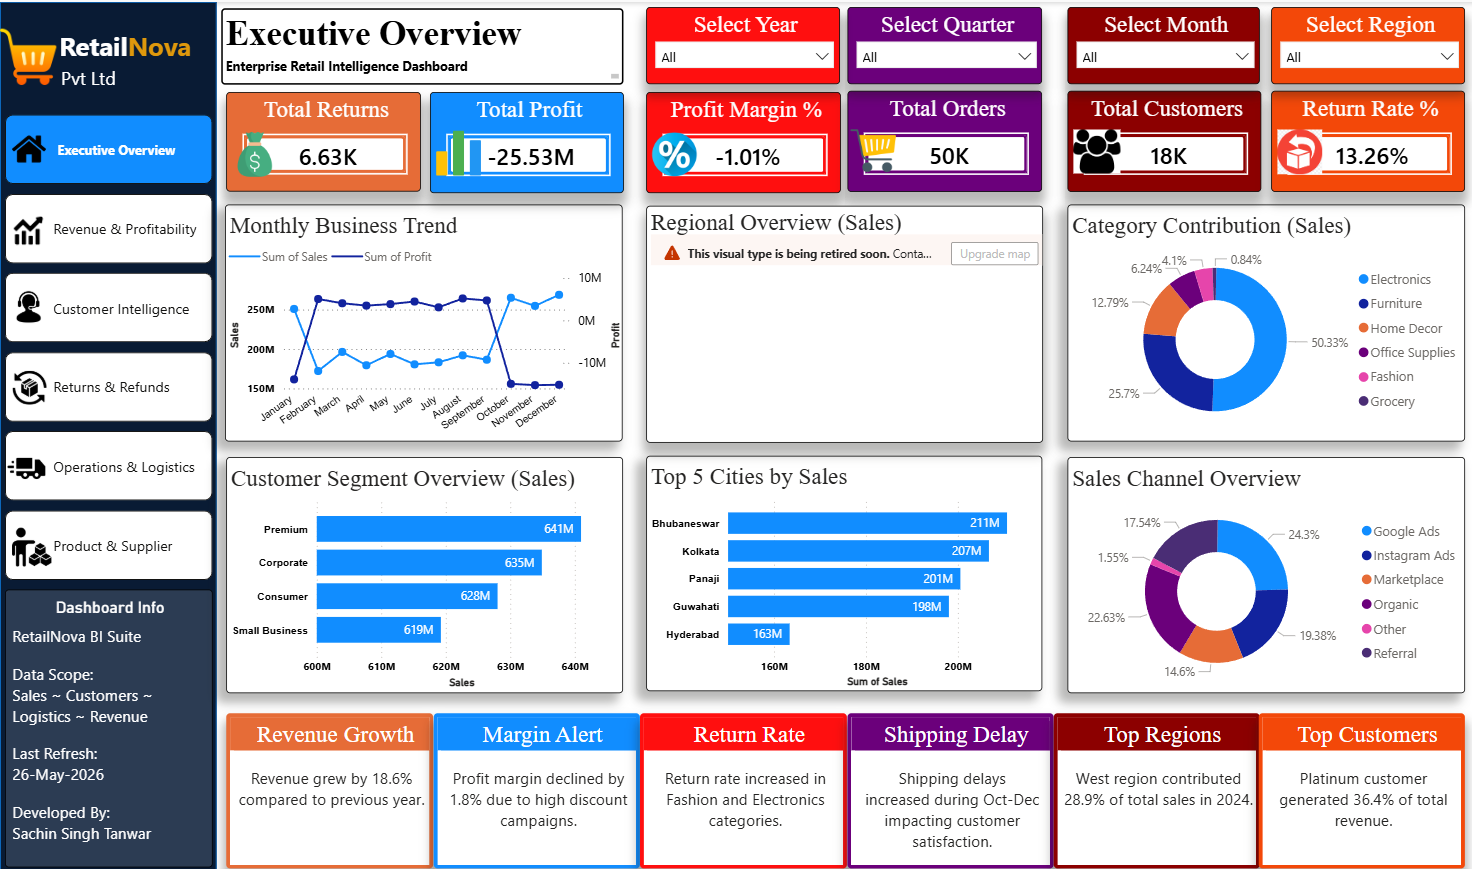

This screenshot's page, from the dashboard's own definition file:
{"tool":"powerbi","page":{"name":"Executive Overview","canvas":[1530,900],"ordinal":0},"visuals":[{"type":"group","id":"g1","title":"Group 2","box":[0,0,224.5,900.5],"z":0},{"type":"lineChart","title":"Monthly Business Trend","fields":{"Y":["Sum(master_analytics_dataset.Sales)"],"Category":["master_analytics_dataset.Order_Date.Variation.Date Hierarchy.Month"],"Y2":["Sum(master_analytics_dataset.Profit)"]},"box":[233.6,210.2,412.2,245.9],"z":1000},{"type":"textbox","title":"Revenue Growth","box":[234.9,736.4,214.8,160.5],"z":2000},{"type":"pageNavigator","box":[5.6,116.5,215.4,482.3],"z":2500,"group":"g2"},{"type":"cardVisual","title":"Total Profit","fields":{"Data":["master_analytics_dataset.Total Profit"]},"box":[445.2,93.4,200.6,104.4],"z":3000},{"type":"textbox","title":"Margin Alert","box":[449.7,736.4,213.4,160.5],"z":4000},{"type":"image","box":[11.9,134.5,36.6,35.4],"z":4500,"group":"g2"},{"type":"clusteredBarChart","title":"Customer Segment Overview (Sales)","fields":{"Category":["master_analytics_dataset.Segment"],"Y":["Sum(master_analytics_dataset.Sales)"]},"box":[234.9,471.3,410.8,244.6],"z":5000},{"type":"textbox","title":" Return Rate","box":[663.2,736.4,214.8,160.5],"z":6000},{"type":"image","box":[0,22,58.1,70],"z":6250,"group":"g2"},{"type":"shape","box":[0,0,224.5,900.5],"z":6500,"group":"g1"},{"type":"donutChart","title":"Category Contribution (Sales)","fields":{"Y":["Sum(master_analytics_dataset.Sales)"],"Category":["master_analytics_dataset.Category"]},"box":[1106,210.2,412.2,245.9],"z":7000},{"type":"textbox","title":"Shipping Delay","box":[877.9,736.4,213.4,160.5],"z":8000},{"type":"textbox","title":"Retail","box":[58.1,22,166.4,60.9],"z":8500,"group":"g2"},{"type":"textbox","title":"Top Regions","box":[1091.4,736.4,213.4,160.7],"z":10000},{"type":"textbox","box":[58.4,60.9,93.8,42.8],"z":10500,"group":"g2"},{"type":"cardVisual","title":"Total Returns","fields":{"Data":["master_analytics_dataset.Total Returns"]},"box":[234.9,93.4,202,103],"z":11000},{"type":"clusteredBarChart","title":"Top 5 Cities by Sales","fields":{"Category":["master_analytics_dataset.City_x"],"Y":["Sum(master_analytics_dataset.Sales)"]},"box":[669.1,470.8,410.6,244.4],"z":12000},{"type":"image","box":[13.9,221.2,30,30],"z":12500,"group":"g2"},{"type":"image","box":[11.9,298.2,36,36.3],"z":13000,"group":"g2"},{"type":"textbox","title":"Top Customers","box":[1304.8,736.4,213.4,160.5],"z":13000},{"type":"cardVisual","title":"Profit Margin %","fields":{"Data":["master_analytics_dataset.Profit Margin %"]},"box":[669.1,93.4,202,104.4],"z":14000},{"type":"image","box":[234.5,134.7,59.6,46.6],"z":15000},{"type":"image","box":[12.9,382.2,35.8,35.2],"z":15000,"group":"g2"},{"type":"image","box":[445.6,133.4,59.6,46.6],"z":16000},{"type":"cardVisual","title":"Total Orders","fields":{"Data":["master_analytics_dataset.Total Orders"]},"box":[877.9,92.1,202,104.4],"z":17000},{"type":"image","box":[8.3,464,38.9,38.9],"z":17000,"group":"g2"},{"type":"cardVisual","title":"Total Customers","fields":{"Data":["master_analytics_dataset.Total Customers"]},"box":[1106,92.1,200.6,104.4],"z":18000},{"type":"cardVisual","title":"Return Rate %","fields":{"Data":["master_analytics_dataset.Return Rate %"]},"box":[1317.6,92.1,200.6,104.4],"z":19000},{"type":"image","box":[11.9,544.4,42.3,41.5],"z":19000,"group":"g2"},{"type":"donutChart","title":"Sales Channel Overview","fields":{"Y":["Sum(master_analytics_dataset.Sales)"],"Series":["master_analytics_dataset.Acquisition_Channel"]},"box":[1106,471.3,412.2,244.6],"z":20000},{"type":"textbox","title":"Dashboard Info","box":[5.6,608.5,215.4,287.7],"z":20000,"group":"g2"},{"type":"image","box":[669.7,134.7,58.3,46.6],"z":21000},{"type":"group","id":"g2","title":"Group 1","box":[0,22,224.5,874.2],"z":21001,"group":"g1"},{"type":"image","box":[875.7,130.8,58.3,46.6],"z":22000},{"type":"filledMap","title":"Regional Overview (Sales)","fields":{"Category":["master_analytics_dataset.State"],"Series":["master_analytics_dataset.Region"]},"box":[670,210.7,411.5,245.6],"z":23000},{"type":"image","box":[1107.5,132.1,58.3,45.3],"z":24000},{"type":"slicer","title":"Select Quarter","fields":{"Values":["master_analytics_dataset.Order_Date.Variation.Date Hierarchy.Quarter"]},"box":[877.9,5.5,202,79.7],"z":25000},{"type":"image","box":[1317.4,132.1,59.6,46.6],"z":26000},{"type":"slicer","title":"Select Month","fields":{"Values":["master_analytics_dataset.Order_Date.Variation.Date Hierarchy.Month"]},"box":[1106,5.5,199.2,79.7],"z":27000},{"type":"slicer","title":"Select Region","fields":{"Values":["master_analytics_dataset.Region"]},"box":[1317.6,5.5,200.6,79.7],"z":28000},{"type":"slicer","title":"Select Year","fields":{"Values":["master_analytics_dataset.Order_Date.Variation.Date Hierarchy.Year"]},"box":[670.2,5.5,200.6,79.7],"z":29000},{"type":"textbox","title":"Executive Overview","box":[229.3,6.5,417.1,79],"z":30000}]}

Visuals, with their boxes in screenshot pixels (x1, y1, x2, y2), scaled from the page's 1530x900 canvas onto the 1472x869 screenshot:
"Group 2" group: Rect(0, 0, 216, 868)
"Monthly Business Trend" lineChart: Rect(225, 203, 621, 440)
"Revenue Growth" textbox: Rect(226, 711, 433, 866)
pageNavigator: Rect(5, 112, 213, 578)
"Total Profit" cardVisual: Rect(428, 90, 621, 191)
"Margin Alert" textbox: Rect(433, 711, 638, 866)
image: Rect(11, 130, 47, 164)
"Customer Segment Overview (Sales)" clusteredBarChart: Rect(226, 455, 621, 691)
" Return Rate" textbox: Rect(638, 711, 845, 866)
image: Rect(0, 21, 56, 89)
shape: Rect(0, 0, 216, 868)
"Category Contribution (Sales)" donutChart: Rect(1064, 203, 1461, 440)
"Shipping Delay" textbox: Rect(845, 711, 1050, 866)
"Retail" textbox: Rect(56, 21, 216, 80)
"Top Regions" textbox: Rect(1050, 711, 1255, 866)
textbox: Rect(56, 59, 146, 100)
"Total Returns" cardVisual: Rect(226, 90, 420, 190)
"Top 5 Cities by Sales" clusteredBarChart: Rect(644, 455, 1039, 691)
image: Rect(13, 214, 42, 243)
image: Rect(11, 288, 46, 323)
"Top Customers" textbox: Rect(1255, 711, 1461, 866)
"Profit Margin %" cardVisual: Rect(644, 90, 838, 191)
image: Rect(226, 130, 283, 175)
image: Rect(12, 369, 47, 403)
image: Rect(429, 129, 486, 174)
"Total Orders" cardVisual: Rect(845, 89, 1039, 190)
image: Rect(8, 448, 45, 486)
"Total Customers" cardVisual: Rect(1064, 89, 1257, 190)
"Return Rate %" cardVisual: Rect(1268, 89, 1461, 190)
image: Rect(11, 526, 52, 566)
"Sales Channel Overview" donutChart: Rect(1064, 455, 1461, 691)
"Dashboard Info" textbox: Rect(5, 588, 213, 865)
image: Rect(644, 130, 700, 175)
"Group 1" group: Rect(0, 21, 216, 865)
image: Rect(843, 126, 899, 171)
"Regional Overview (Sales)" filledMap: Rect(645, 203, 1041, 441)
image: Rect(1066, 128, 1122, 171)
"Select Quarter" slicer: Rect(845, 5, 1039, 82)
image: Rect(1267, 128, 1325, 173)
"Select Month" slicer: Rect(1064, 5, 1256, 82)
"Select Region" slicer: Rect(1268, 5, 1461, 82)
"Select Year" slicer: Rect(645, 5, 838, 82)
"Executive Overview" textbox: Rect(221, 6, 622, 83)
